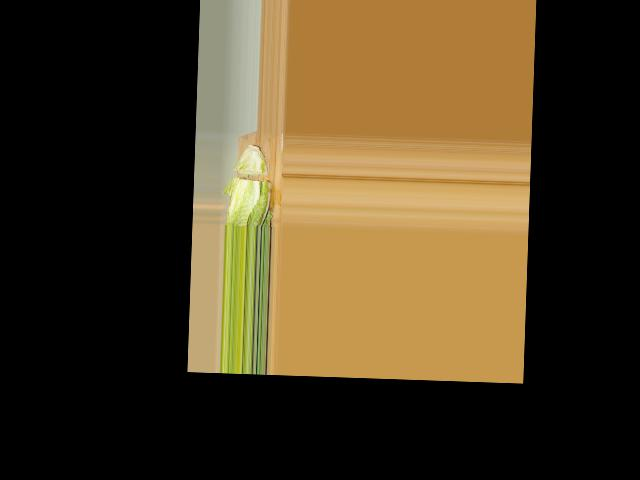lettuce: (223, 145, 277, 226)
